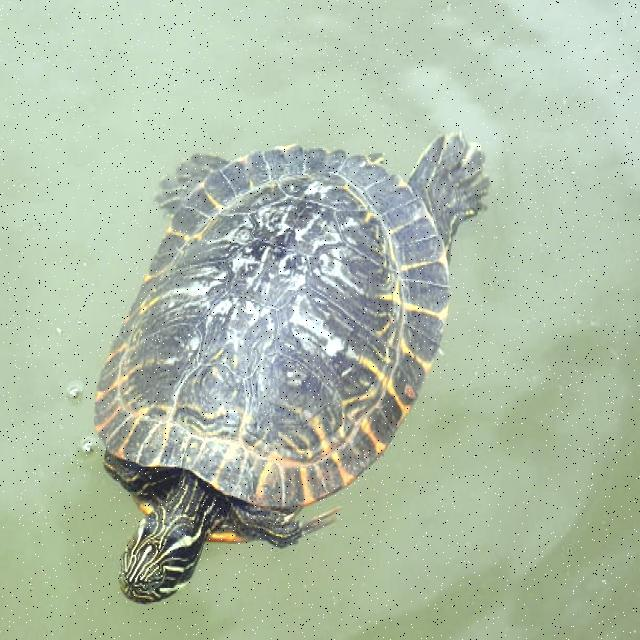tortoise: (94, 122, 500, 600)
